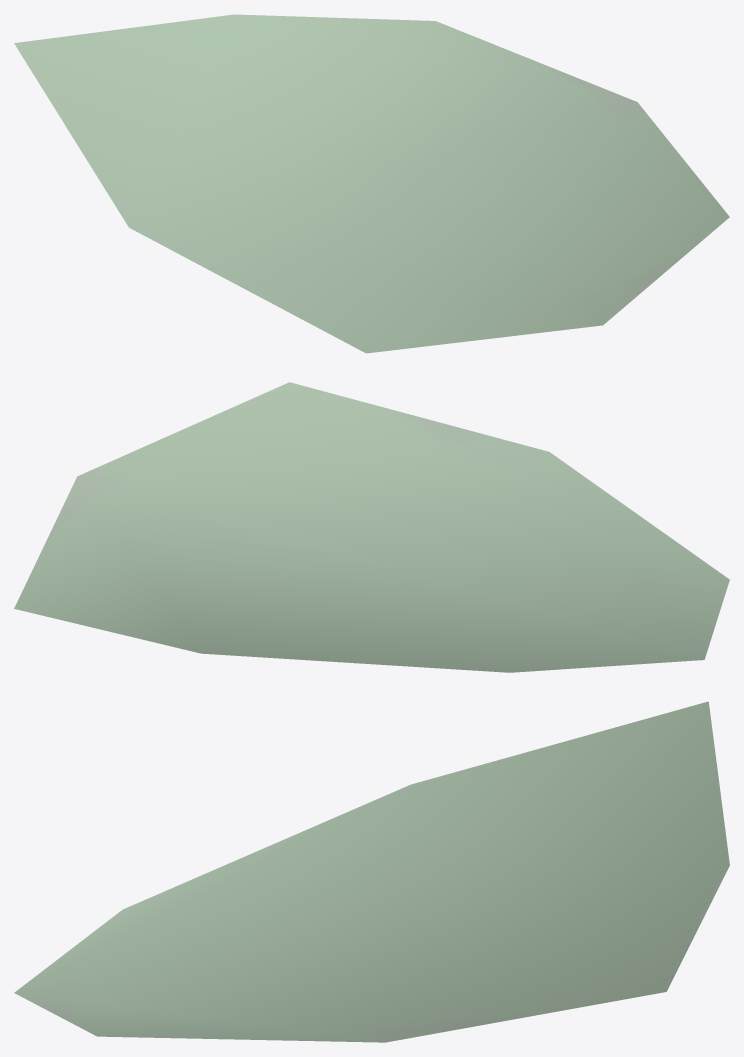
Rendered from TROLLHOLE02_HOLECAP36.fbx.
3 renders of one model, top to bottom at view 1: azimuth 30°, elevation 25°; view 2: azimuth 150°, elevation 25°; view 3: azimuth 270°, elevation 25°, orthographic. The views are drawn at different scales.
Parts seen in each view (by area): view 1: TROLLHOLE02_HOLECAP36; view 2: TROLLHOLE02_HOLECAP36; view 3: TROLLHOLE02_HOLECAP36.
Boxes of the visible parts, x1=… form: TROLLHOLE02_HOLECAP36: x1=14, y1=14, x2=729, y2=353; TROLLHOLE02_HOLECAP36: x1=14, y1=382, x2=729, y2=672; TROLLHOLE02_HOLECAP36: x1=14, y1=701, x2=729, y2=1042.
Size of the model in its own units: 29091 by 7898 by 32344.
Materials: 1 (1 with a texture image).
